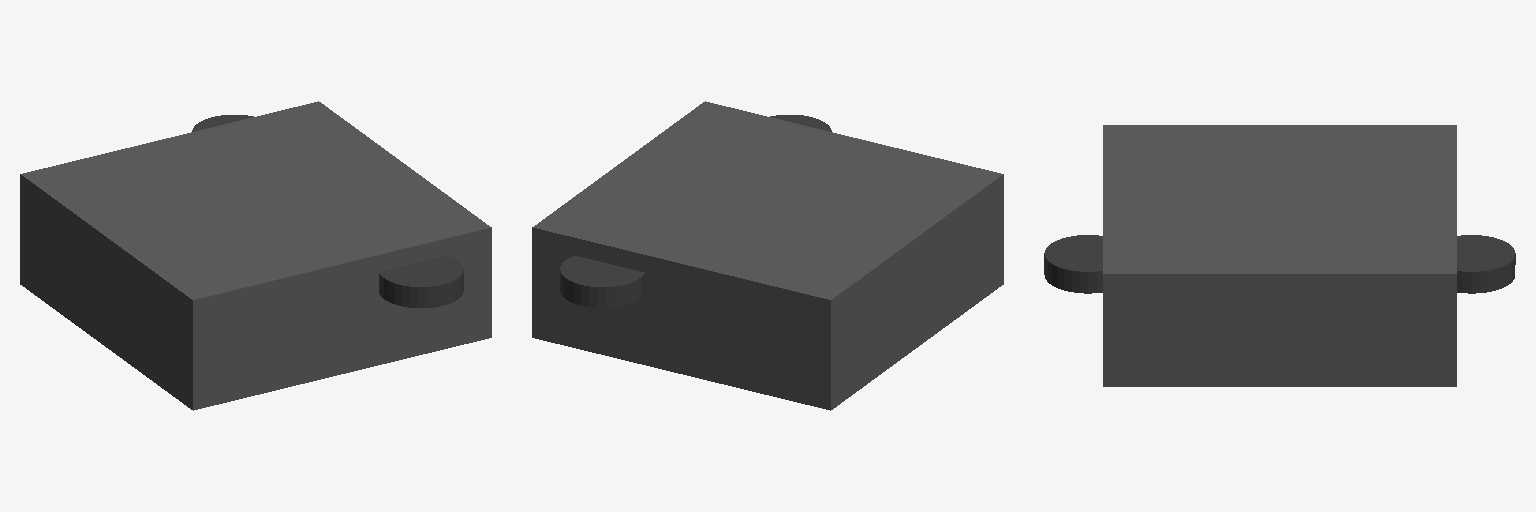
URDF robot description (trashbot):
<?xml version="1.0" ?>
<robot name="trashbot">

 <!-- Init colour -->
  <material name="black">
      <color rgba="0.0 0.0 0.0 1.0"/>
  </material>

  <material name="dark">
    <color rgba="0.3 0.3 0.3 1.0"/>
  </material>

  <material name="light_black">
    <color rgba="0.4 0.4 0.4 1.0"/>
  </material>

  <material name="blue">
    <color rgba="0.0 0.0 0.8 1.0"/>
  </material>

  <material name="green">
    <color rgba="0.0 0.8 0.0 1.0"/>
  </material>

  <material name="grey">
    <color rgba="0.5 0.5 0.5 1.0"/>
  </material>

  <material name="orange">
    <color rgba="1.0 0.4235 0.0392 1.0"/>
  </material>

  <material name="brown">
    <color rgba="0.8706 0.8118 0.7647 1.0"/>
  </material>

  <material name="red">
    <color rgba="0.8 0.0 0.0 1.0"/>
  </material>

  <material name="white">
    <color rgba="1.0 1.0 1.0 1.0"/>
  </material>

  <link name="base_footprint"/>

  <joint name="base_joint" type="fixed">
      <parent link="base_footprint"/>
      <child link="base_link" />
      <origin xyz="0 0 0.010" rpy="0 0 0" />
  </joint>

  <link name="base_link">
      <visual>
          <origin xyz="-0.064 0 0.0" rpy="0 0 0"/>
          <geometry>
              <box size="0.266 0.266 0.094"/>
          </geometry>
          <material name="light_black"/>
      </visual>

      <collision>
          <origin xyz="0.064 0 0.047" rpy="0 0 0"/>
          <geometry>
              <box size="0.266 0.266 0.094"/>
          </geometry>
      </collision>

      <inertial>
          <origin xyz="0 0 0" rpy="0 0 0"/>
          <mass value="1.3729096e+00"/>
          <inertia ixx="8.7002718e-03" ixy="-4.7576583e-05" ixz="1.1160499e-04"
              iyy="8.6195418e-03" iyz="-3.5422299e-06"
              izz="1.4612727e-02" />
      </inertial>
  </link>

  <joint name="wheel_left_joint" type="continuous">
      <parent link="base_link"/>
      <child link="wheel_left_link"/>
      <origin xyz="0.0 0.144 0.023" rpy="1.57 0 0"/>
      <axis xyz="0 0 1"/>
  </joint>

  <link name="wheel_left_link">
      <visual>
          <origin xyz="0 0 0" rpy="1.57 0 0"/>
          <geometry>
              <cylinder length="0.018" radius="0.033"/>
          </geometry>
          <material name="dark"/>
      </visual>

      <collision>
          <origin xyz="0 0 0" rpy="0 0 0"/>
          <geometry>
              <cylinder length="0.018" radius="0.033"/>
          </geometry>
      </collision>

      <inertial>
          <origin xyz="0 0 0" />
          <mass value="2.8498940e-02" />
          <inertia ixx="1.1175580e-05" ixy="-4.2369783e-11" ixz="-5.9381719e-09"
             iyy="1.1192413e-05" iyz="-1.4400107e-11"
             izz="2.0712558e-05" />
      </inertial>
  </link>

  <joint name="wheel_right_joint" type="continuous">
      <parent link="base_link"/>
      <child link="wheel_right_link"/>
      <origin xyz="0.0 -0.144 0.023" rpy="-1.57 0 0"/>
      <axis xyz="0 0 1"/>
  </joint>

  <link name="wheel_right_link">
      <visual>
          <origin xyz="0 0 0" rpy="1.57 0 0"/>
          <geometry>
              <cylinder length="0.018" radius="0.033"/>
          </geometry>
          <material name="dark"/>
      </visual>

      <collision>
          <origin xyz="0 0 0" rpy="0 0 0"/>
          <geometry>
              <cylinder length="0.018" radius="0.033"/>
          </geometry>
      </collision>

      <inertial>
          <origin xyz="0 0 0" />
          <mass value="2.8498940e-02" />
          <inertia ixx="1.1175580e-05" ixy="-4.2369783e-11" ixz="-5.9381719e-09"
             iyy="1.1192413e-05" iyz="-1.4400107e-11"
             izz="2.0712558e-05" />
      </inertial>
  </link>

  <joint name="caster_back_right_joint" type="fixed">
      <parent link="base_link"/>
      <child link="caster_back_right_link"/>
      <origin xyz="-0.177 -0.064 -0.004" rpy="-1.57 0 0"/>
  </joint>

  <link name="caster_back_right_link">
      <collision>
          <origin xyz="0 0.001 0" rpy="0 0 0"/>
          <geometry>
              <box size="0.030 0.009 0.020"/>
          </geometry>
      </collision>

      <inertial>
          <origin xyz="0 0 0" />
          <mass value="0.005" />
          <inertia ixx="0.001" ixy="0.0" ixz="0.0"
             iyy="0.001" iyz="0.0"
             izz="0.001" />
      </inertial>
  </link>

  <joint name="caster_back_left_joint" type="fixed">
      <parent link="base_link"/>
      <child link="caster_back_left_link"/>
      <origin xyz="-0.177 0.064 -0.004" rpy="-1.57 0 0"/>
  </joint>

  <link name="caster_back_left_link">
      <collision>
          <origin xyz="0 0.001 0" rpy="0 0 0"/>
          <geometry>
              <box size="0.030 0.009 0.020"/>
          </geometry>
      </collision>

      <inertial>
          <origin xyz="0 0 0" />
          <mass value="0.005" />
          <inertia ixx="0.001" ixy="0.0" ixz="0.0"
             iyy="0.001" iyz="0.0"
             izz="0.001" />
      </inertial>
  </link>

</robot>

--- Render facts (derived) ---
3 views of the same robot in one strip: view 1: azimuth 30°, elevation 25°; view 2: azimuth 150°, elevation 25°; view 3: azimuth 270°, elevation 25° (orthographic).
Model trashbot with 6 links and 5 joints (2 continuous, 3 fixed), rooted at base_footprint, posed every joint at zero.
Links seen in each view (by area): view 1: base_link, wheel_right_link; view 2: base_link, wheel_left_link; view 3: base_link, wheel_right_link, wheel_left_link.
Link boxes in pixels (x1,y1,x2,y2): base_link: [20, 101, 491, 410]; wheel_right_link: [379, 256, 463, 307]; base_link: [532, 101, 1003, 410]; wheel_left_link: [560, 256, 644, 307]; base_link: [1103, 125, 1456, 386]; wheel_right_link: [1044, 235, 1102, 293]; wheel_left_link: [1457, 235, 1515, 293].
Bounding box of the posed robot: 0.266 × 0.354 × 0.094 m (x, y, z).
Geometry: primitives only (box / cylinder / sphere), no mesh files.